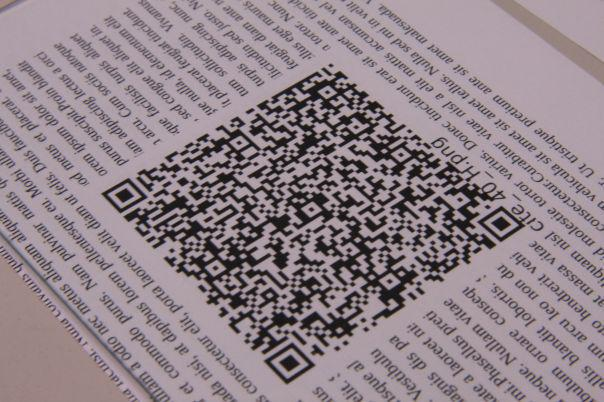Finder pattern: (263, 344, 316, 386), (477, 205, 526, 241), (102, 179, 148, 215)
